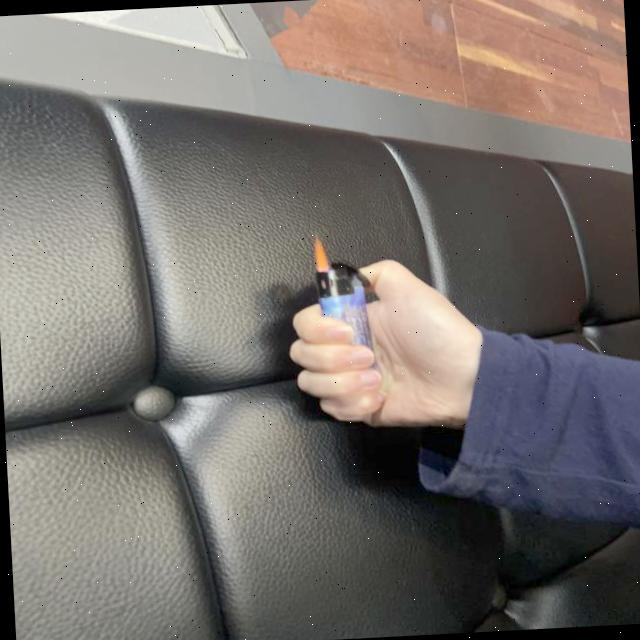fire: (313, 236, 329, 273)
